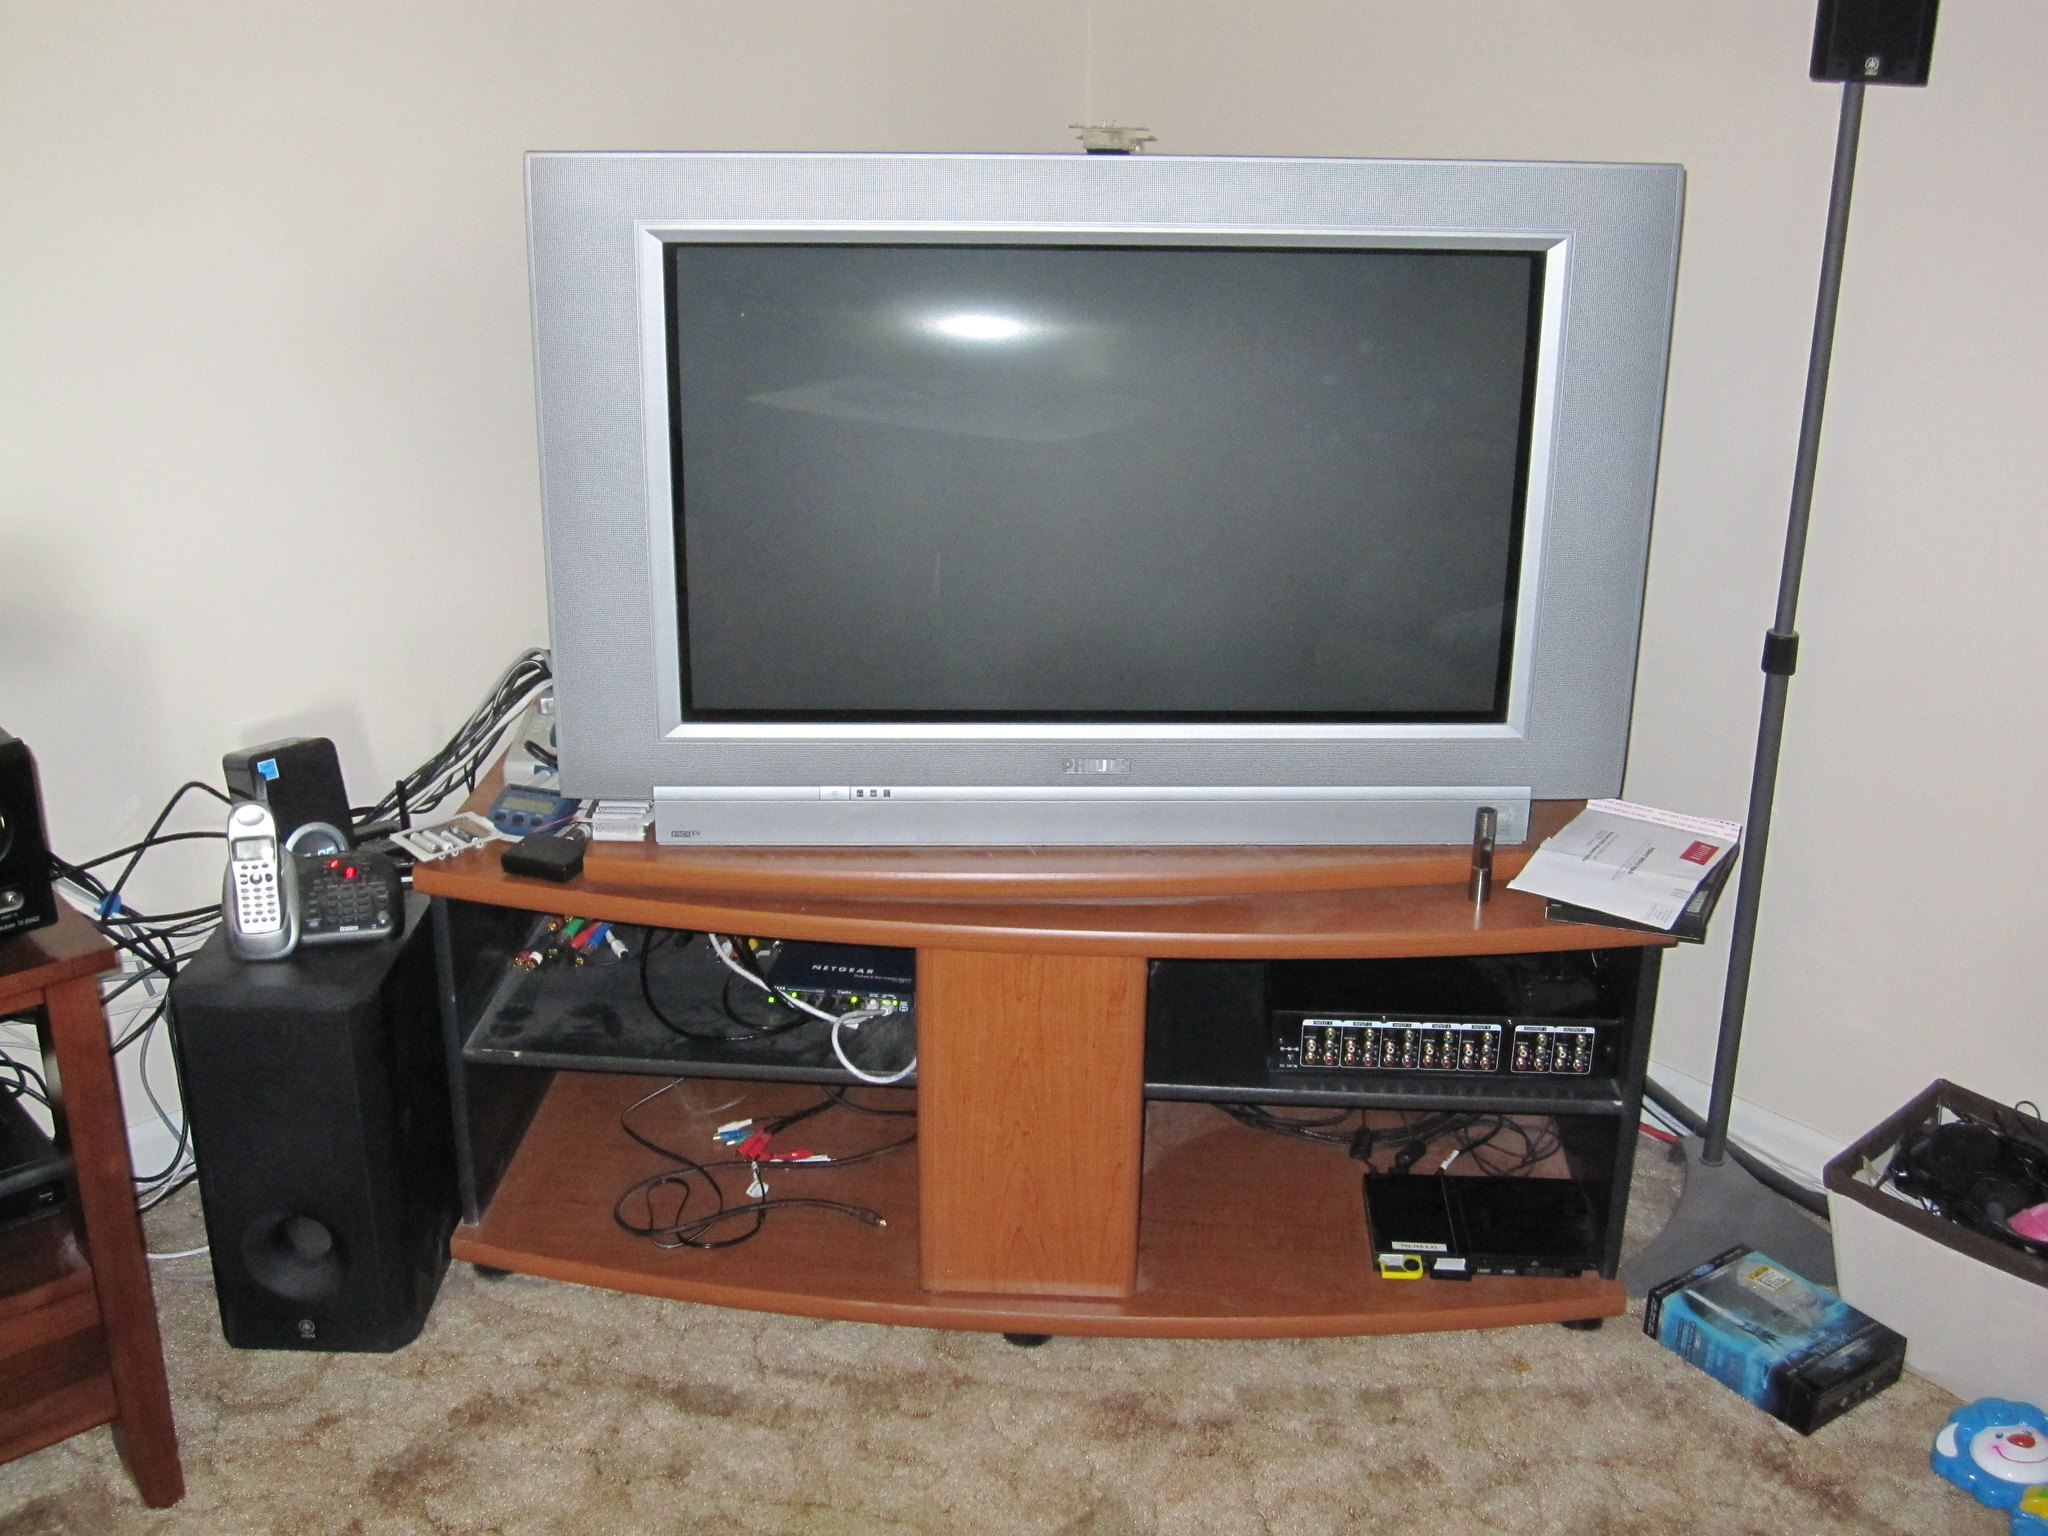tv monitor: (518, 148, 1638, 904)
